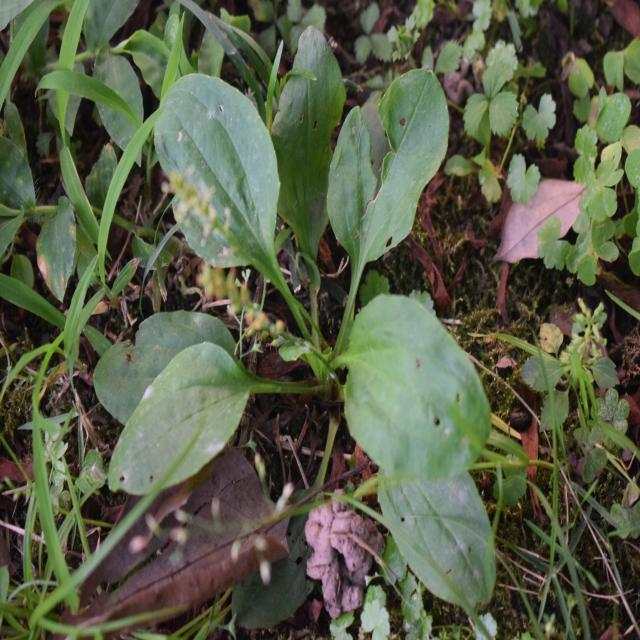plantain: (117, 8, 502, 550)
